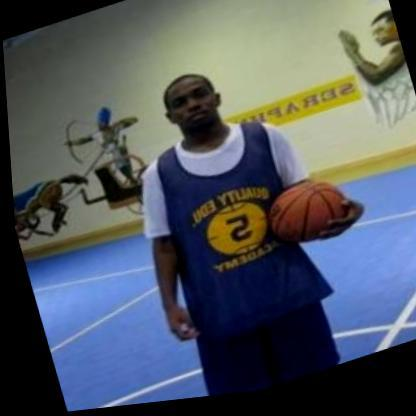basketball: (256, 173, 352, 258)
